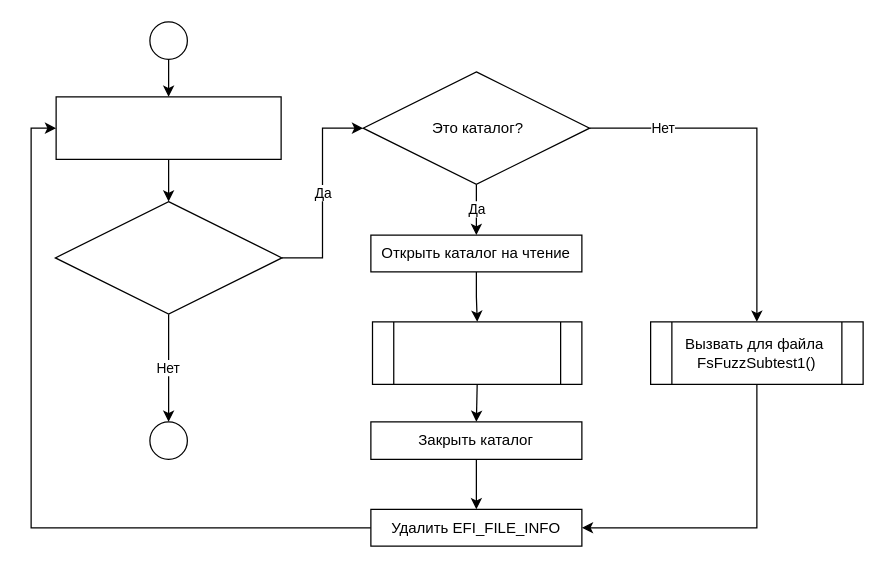
The diagram is 885 pixels wide and 569 high, and some of its shapes have lost their labels. Each missing label, with the centre of its shape:
Есть ли еще элементы в каталоге?: point 168,257
Обойти каталог FsTest1(): point 476,352
Получить EFI_FILE_INFO из дескриптора каталога: point 168,127
